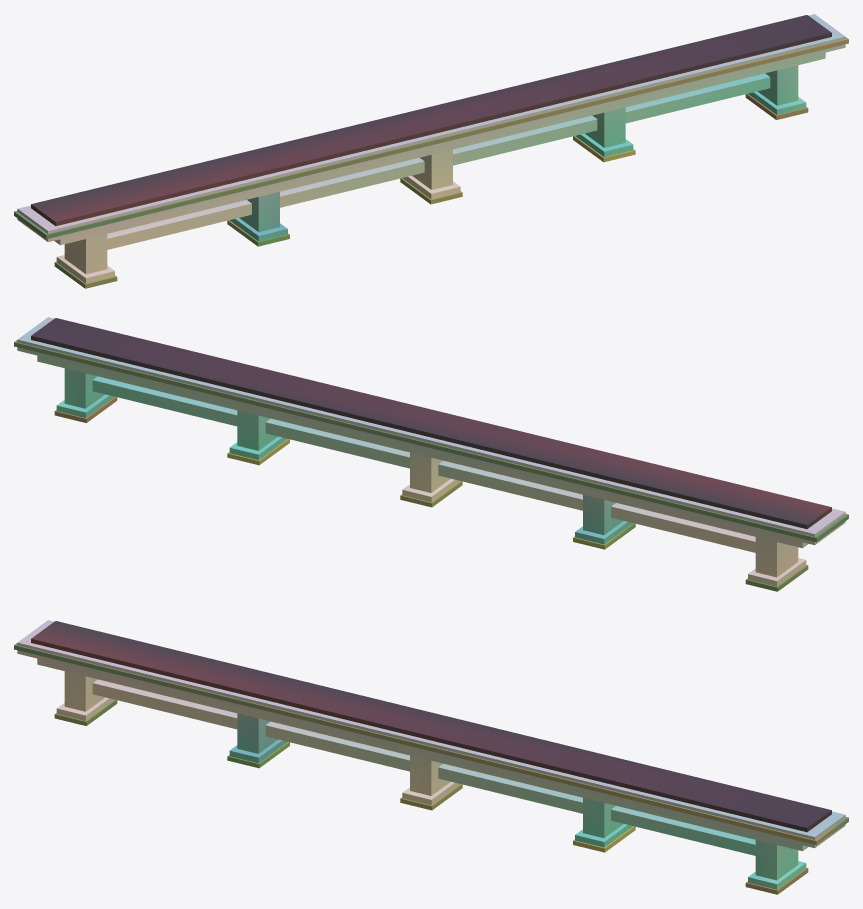
File: banquet_bench_6m.glb
The picture shows the model from 3 angles, top to bottom: view 1: azimuth 30°, elevation 25°; view 2: azimuth 150°, elevation 25°; view 3: azimuth 330°, elevation 25°; orthographic projection.
Visible parts, largest first — view 1: bench, bench_cushion, bench_gild; view 2: bench, bench_cushion, bench_gild; view 3: bench, bench_cushion, bench_gild.
Part boxes in pixels (x1,y1,x2,y2): bench: (17, 14, 845, 283); bench_cushion: (31, 15, 831, 226); bench_gild: (14, 37, 848, 288); bench: (17, 317, 845, 586); bench_cushion: (31, 318, 831, 529); bench_gild: (14, 340, 848, 591); bench: (17, 620, 845, 889); bench_cushion: (31, 621, 831, 832); bench_gild: (14, 643, 848, 894).
Size of the model in its own units: 6.04 by 0.51 by 0.42.
